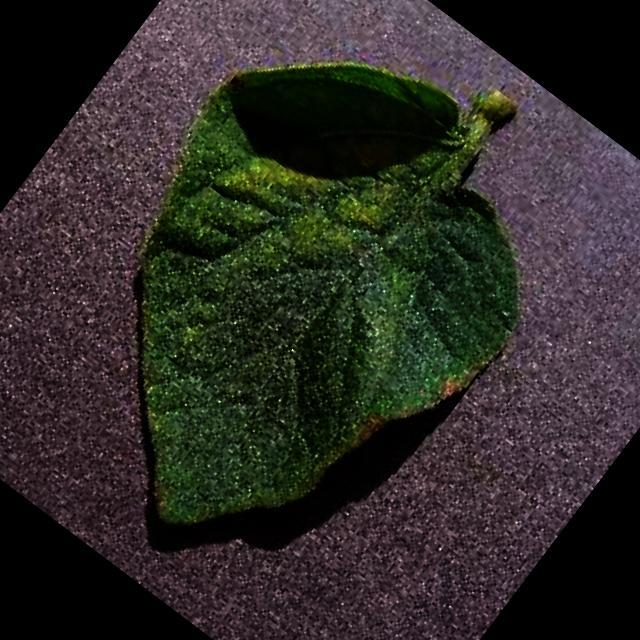Tomato spider mites leaf: (0, 0, 598, 618)
